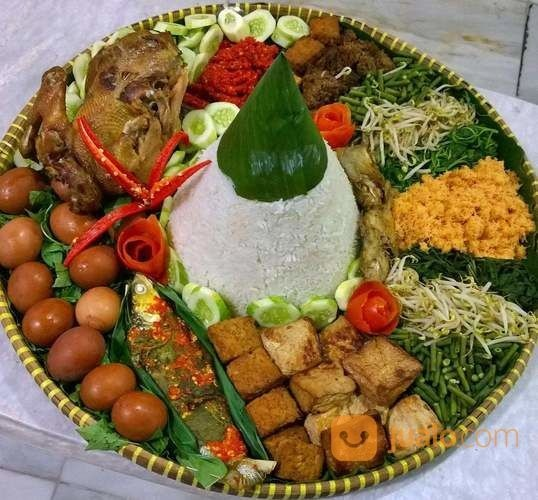nasi_tumpeng: (2, 1, 529, 495)
